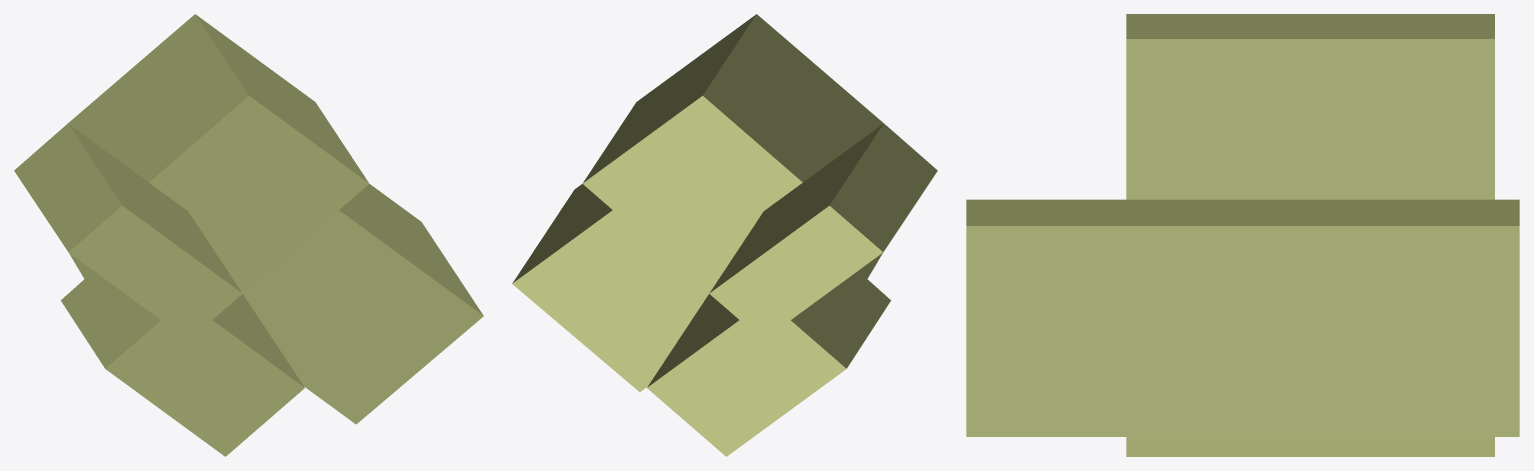
The picture shows the model from 3 angles, left to right: view 1: azimuth 30°, elevation 25°; view 2: azimuth 150°, elevation 25°; view 3: azimuth 270°, elevation 25°; orthographic projection. The views are drawn at different scales.
Parts seen in each view (by area): view 1: 0_1_1_3_2_2_3_0_3_2_2; view 2: 0_1_1_3_2_2_3_0_3_2_2; view 3: 0_1_1_3_2_2_3_0_3_2_2.
Part boxes in pixels (x1,y1,x2,y2): 0_1_1_3_2_2_3_0_3_2_2: (14,14,483,456); 0_1_1_3_2_2_3_0_3_2_2: (512,14,937,456); 0_1_1_3_2_2_3_0_3_2_2: (966,14,1519,456).
Bounding box in the file's own units: 8.57 × 9.16 × 9.
